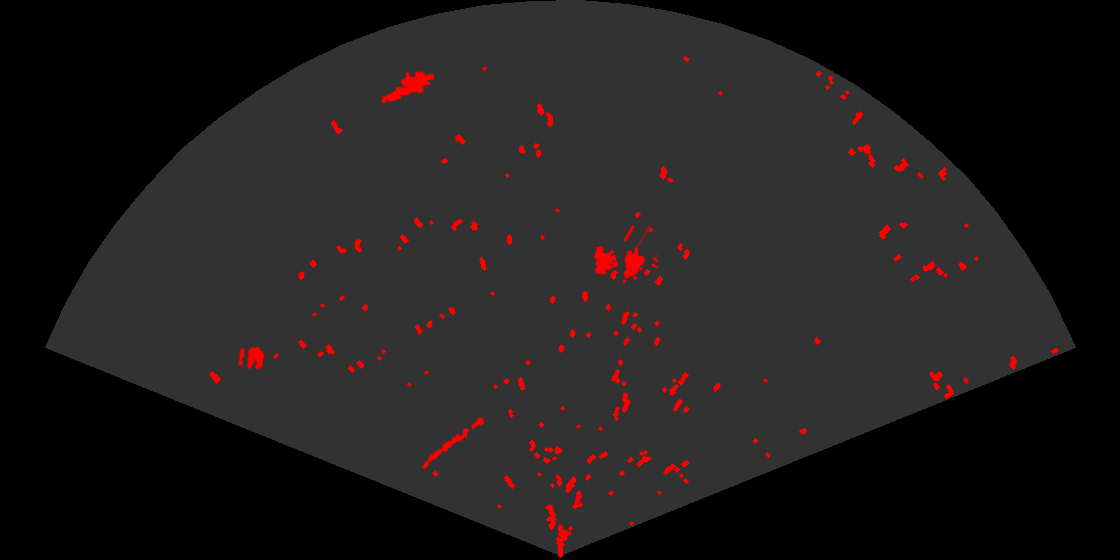ball: (236, 345, 266, 372)
cage: (592, 226, 658, 285)
chain: (421, 411, 490, 471)
frogman: (379, 69, 434, 105)
